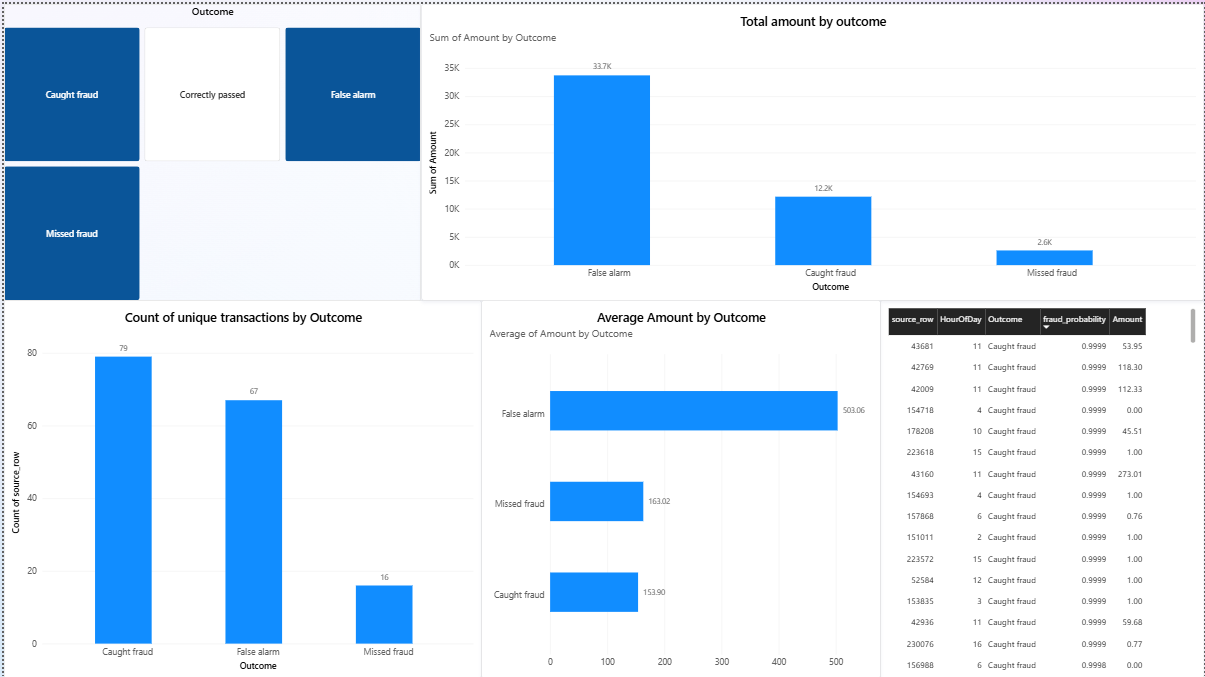

The page's visual inventory and layout, read from the dashboard file:
{"tool":"powerbi","page":{"name":"Page 3","canvas":[1920,1080],"ordinal":2},"visuals":[{"type":"advancedSlicerVisual","fields":{"Values":["powerbi_test_results.Outcome"]},"box":[0,0,668,474],"z":0},{"type":"tableEx","fields":{"Values":["powerbi_test_results.source_row","powerbi_test_results.HourOfDay","powerbi_test_results.Outcome","powerbi_test_results.fraud_probability","powerbi_test_results.Amount"]},"box":[1402,474,518,606],"z":1},{"type":"columnChart","title":"Count of unique transactions by Outcome","fields":{"Category":["powerbi_test_results.Outcome"],"Y":["CountNonNull(powerbi_test_results.source_row)"]},"box":[0,474,764,606],"z":2},{"type":"columnChart","title":"Total amount by outcome","fields":{"Category":["powerbi_test_results.Outcome"],"Y":["Sum(powerbi_test_results.Amount)"]},"box":[668,0,1252,474],"z":3},{"type":"barChart","title":"Average Amount by Outcome","fields":{"Category":["powerbi_test_results.Outcome"],"Y":["Avg(powerbi_test_results.Amount)"]},"box":[764,474,638,606],"z":4}]}

Visuals, with their boxes in screenshot pixels (x1, y1, x2, y2), scaled from the page's 1920x1080 canvas onto the 1205x677 screenshot:
advancedSlicerVisual - powerbi_test_results.Outcome: region(0, 0, 419, 297)
tableEx - powerbi_test_results.source_row x powerbi_test_results.HourOfDay: region(880, 297, 1204, 676)
"Count of unique transactions by Outcome" columnChart: region(0, 297, 479, 676)
"Total amount by outcome" columnChart: region(419, 0, 1204, 297)
"Average Amount by Outcome" barChart: region(479, 297, 880, 676)
